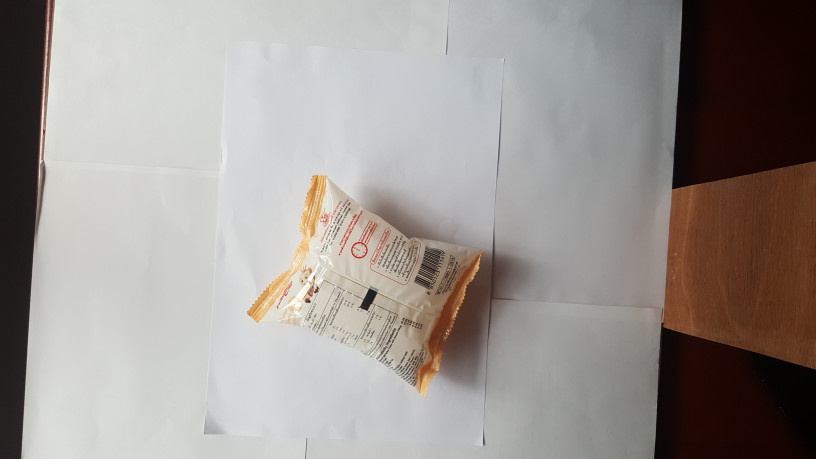farmhouse-sweetsandwich-almond: (229, 169, 495, 400)
